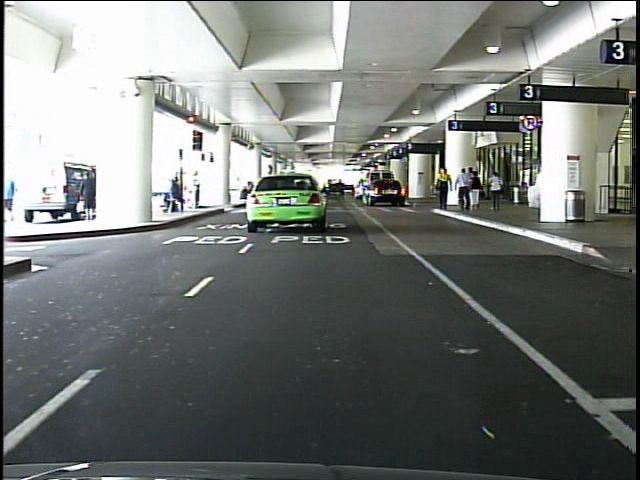person: (431, 165, 454, 216), (81, 170, 103, 221), (484, 170, 507, 218), (453, 167, 473, 217), (469, 170, 485, 214), (192, 170, 207, 213)
